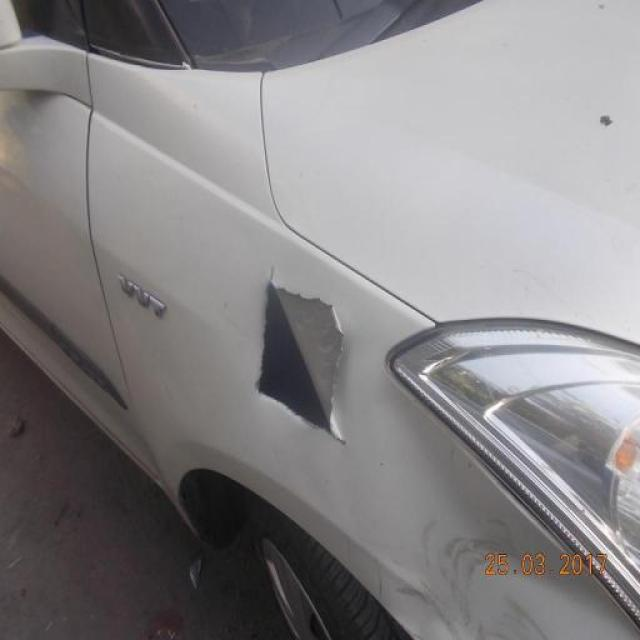tear: (252, 277, 347, 451)
